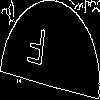F: (25, 25, 47, 76)
